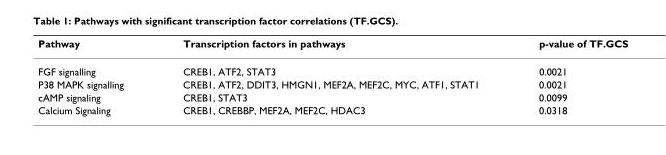table: (37, 36, 627, 115)
table column: (152, 36, 508, 115), (508, 36, 627, 115), (37, 36, 152, 115)
table column header: (37, 36, 627, 56)
table row: (37, 56, 627, 77), (37, 36, 627, 56), (37, 77, 627, 90), (37, 90, 627, 103), (37, 103, 627, 115)
